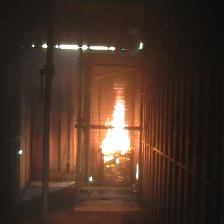fire: (102, 85, 132, 163)
